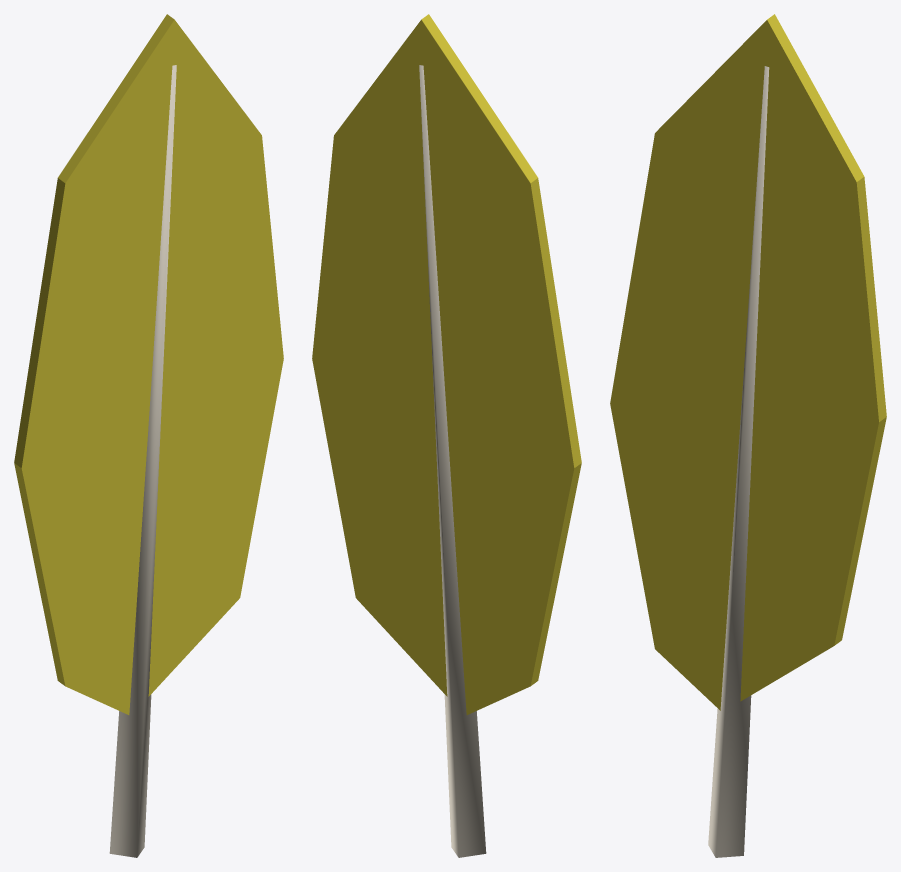
The model's file is daybloom.glb.
3 renders of one model, left to right at view 1: azimuth 30°, elevation 25°; view 2: azimuth 150°, elevation 25°; view 3: azimuth 330°, elevation 25°, orthographic. The views are drawn at different scales.
Visible parts, largest first — view 1: daybloom_v0; view 2: daybloom_v0; view 3: daybloom_v0.
Boxes of the visible parts, <box> form: daybloom_v0: <box>14,14,283,857</box>; daybloom_v0: <box>312,14,581,857</box>; daybloom_v0: <box>610,14,886,857</box>.
Bounding box in the file's own units: 0.12 × 0.3605 × 0.016.
